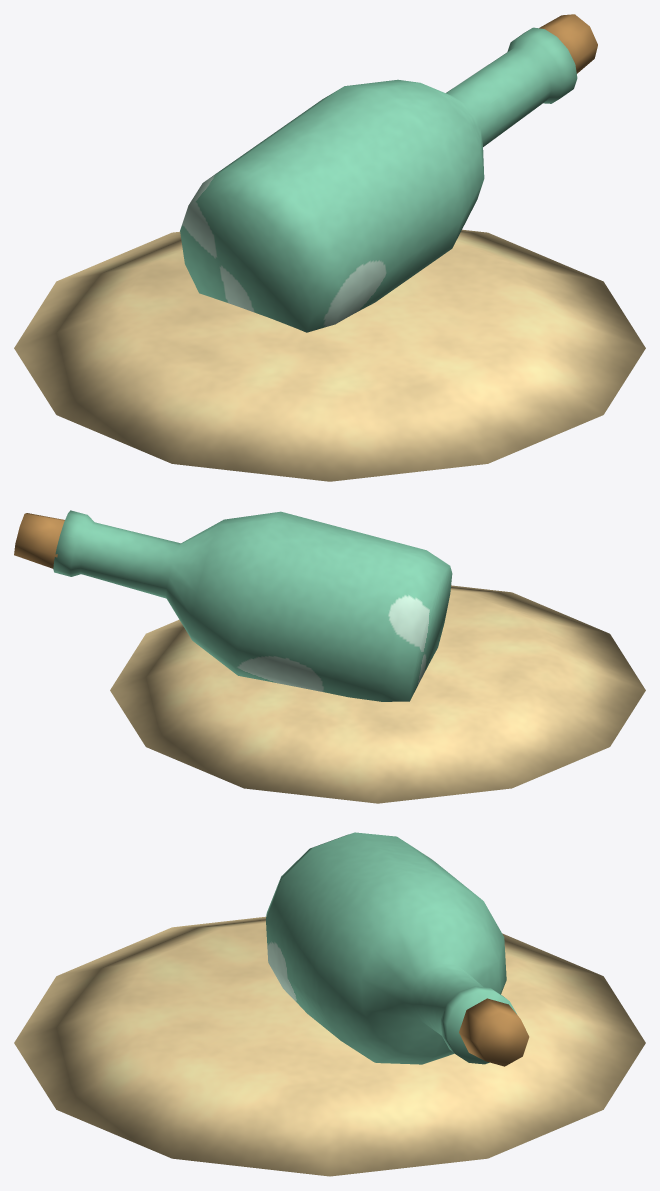
Rendered from drift_bottle.glb.
3 renders of one model, top to bottom at view 1: azimuth 30°, elevation 25°; view 2: azimuth 150°, elevation 25°; view 3: azimuth 270°, elevation 25°, orthographic. The views are drawn at different scales.
Parts seen in each view (by area): view 1: DriftBottle; view 2: DriftBottle; view 3: DriftBottle.
Boxes of the visible parts, x1=… form: DriftBottle: x1=14, y1=14, x2=645, y2=481; DriftBottle: x1=14, y1=510, x2=645, y2=803; DriftBottle: x1=14, y1=832, x2=645, y2=1176.
Bounding box in the file's own units: 0.6756 × 0.2193 × 0.6.
1 material, 1 textured.
